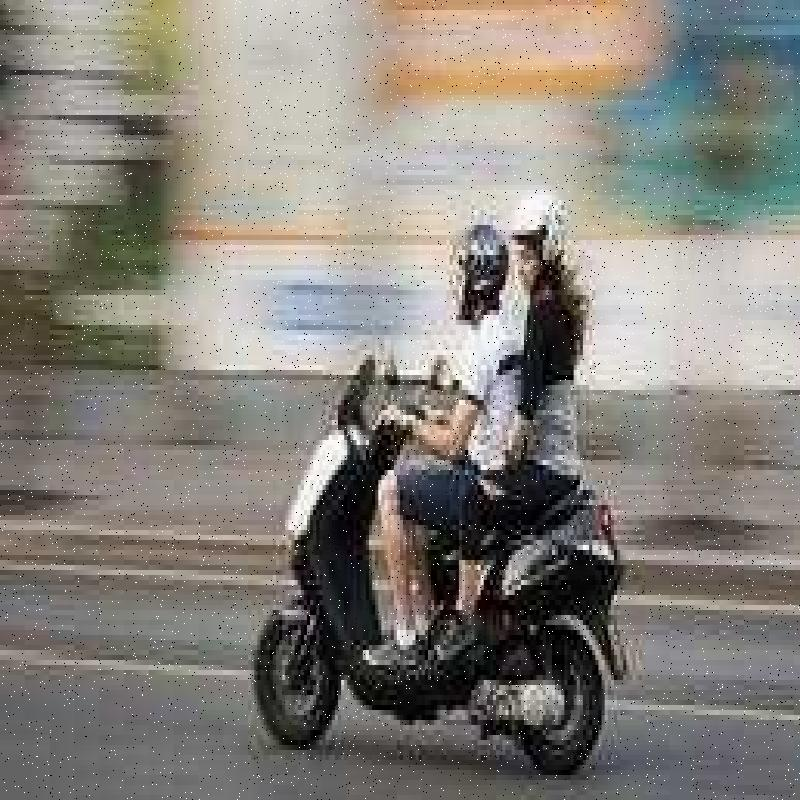bike: (238, 335, 638, 774)
